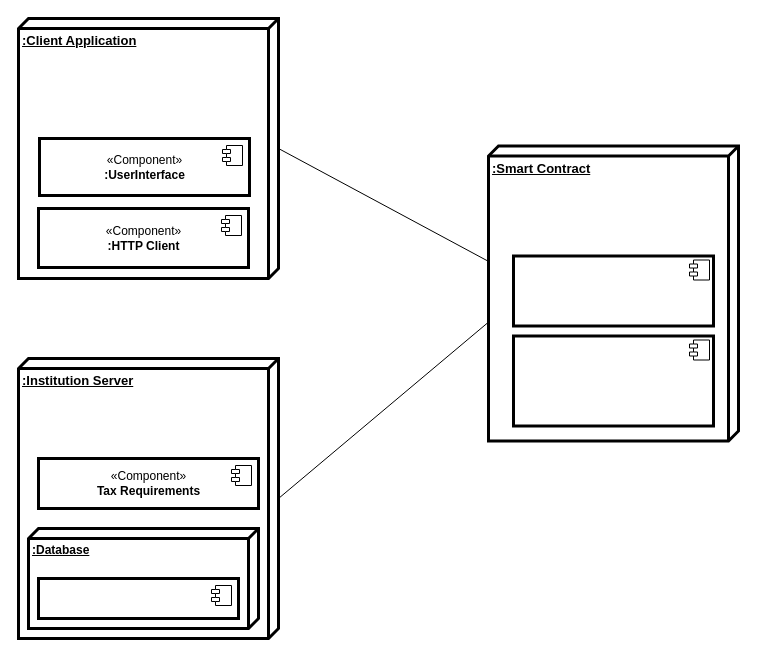
This 757x657 diagram has some shape labels left out. Each missing label, with the centre of its shape:
:Contract Terms + Conditions + Payment ammounts + Payment periodicity: [613,380]
:Events + MonthlyEvent + YearlyEvent: [613,290]
«Database» TaxpayerLedger: [138,598]
